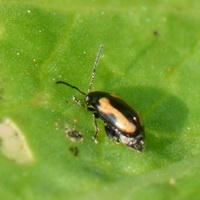insect: (56, 45, 144, 150)
